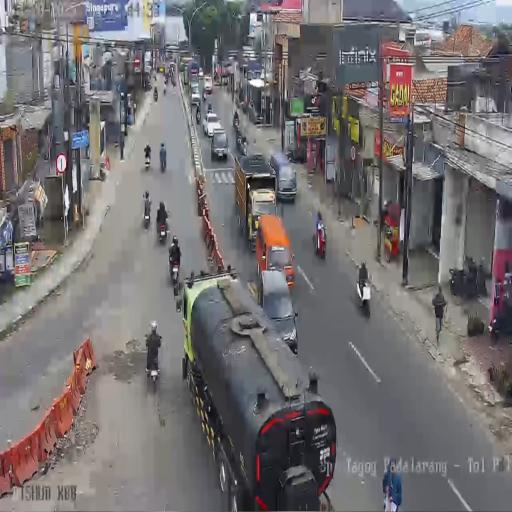car: (258, 271, 298, 351), (268, 149, 297, 201), (210, 129, 228, 160), (190, 80, 200, 105), (204, 75, 212, 96), (198, 67, 204, 79)
motorcycle: (146, 338, 160, 386), (169, 256, 181, 303), (156, 214, 168, 244), (142, 202, 151, 230), (144, 149, 151, 170), (153, 88, 158, 101), (171, 74, 175, 88), (164, 75, 168, 86)
truck: (235, 153, 277, 249), (180, 56, 193, 81)
